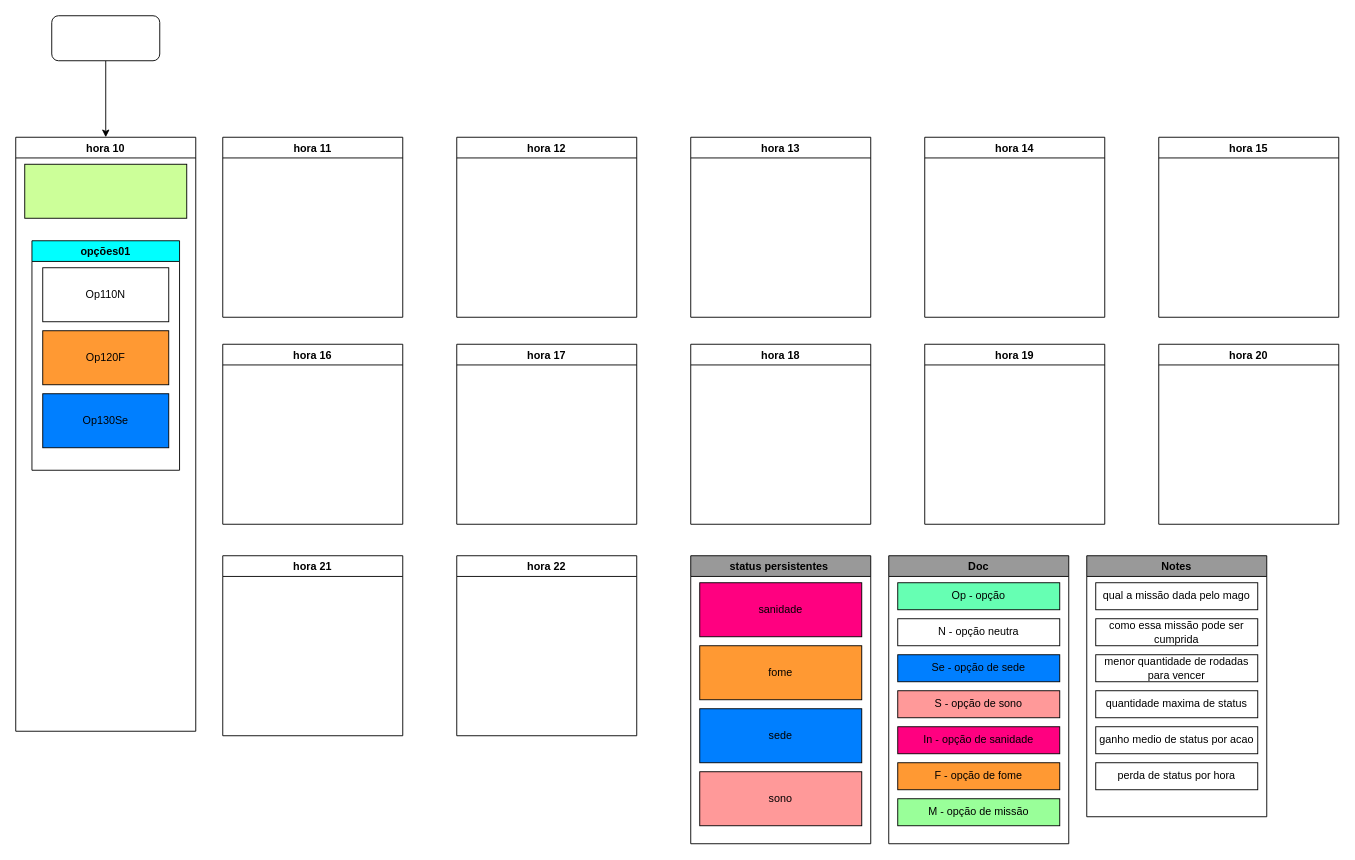
Image size: 1355x860. Some labels were removed from this diagram. The shapes that lost their labels are listed below. From the top down, each one's centre as x and y in pixels, then its label:
point 105,38: início do ciclo
point 105,190: Um mago dá ao jogador uma missão
